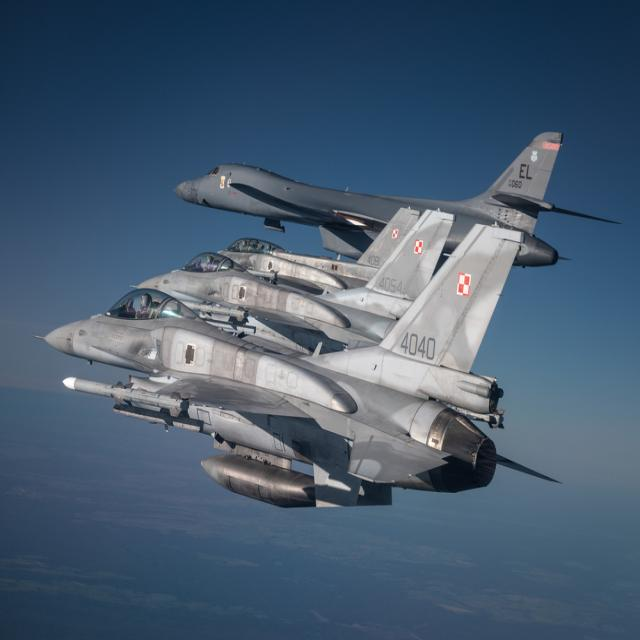MIL_Plane: (31, 222, 564, 509), (127, 206, 457, 355), (166, 167, 617, 240), (184, 210, 422, 292)
